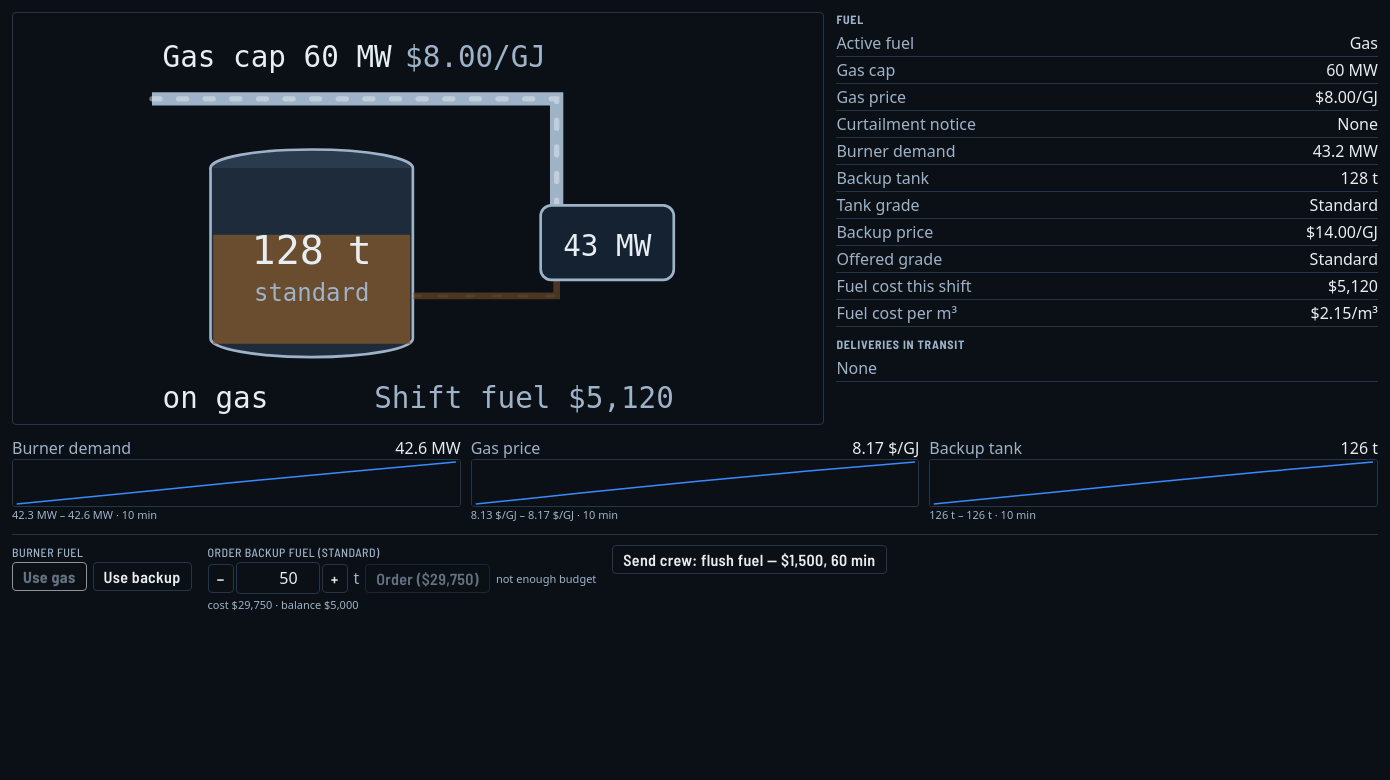
FuelView controls › the order button is disabled when unaffordable
Replace the text in the number field named "tonnes" with "20" at {"x": 278, "y": 578}, box [236,562,320,594]
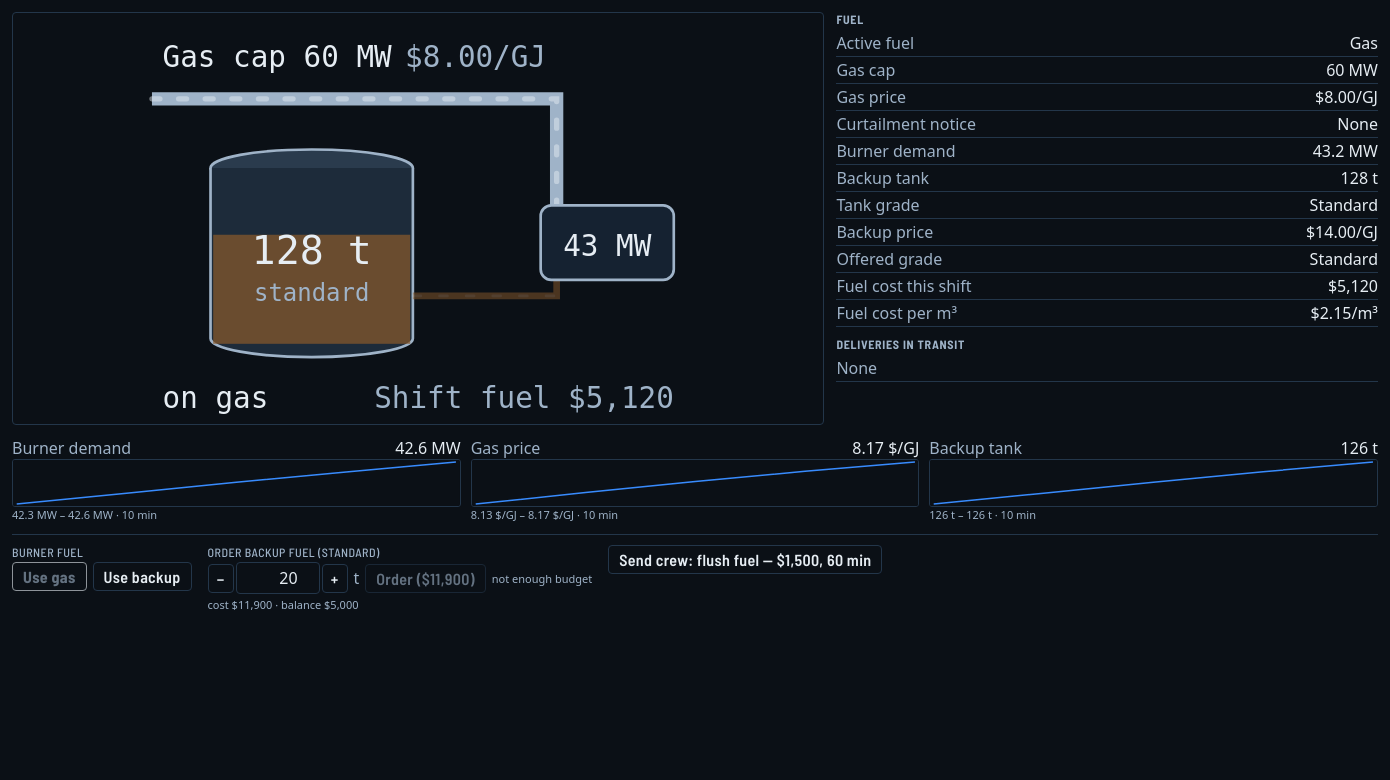
Expected: the button "Order ($11,900)" is disabled, [365,564,486,593]
Replace the text in the number field named "tonnes" with "5" at {"x": 278, "y": 578}, box [236,562,320,594]
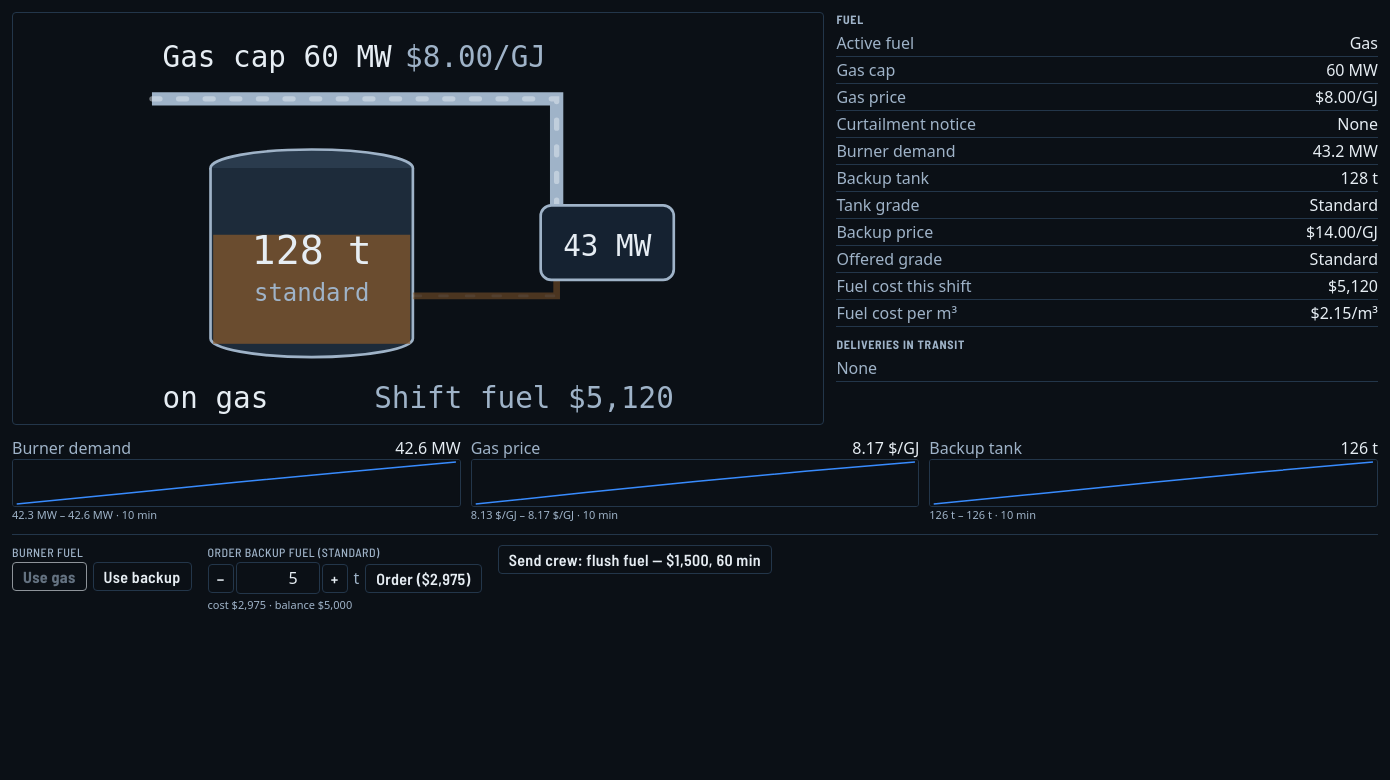
Expected: the button "Order ($2,975)" is enabled, [365,564,482,593]
